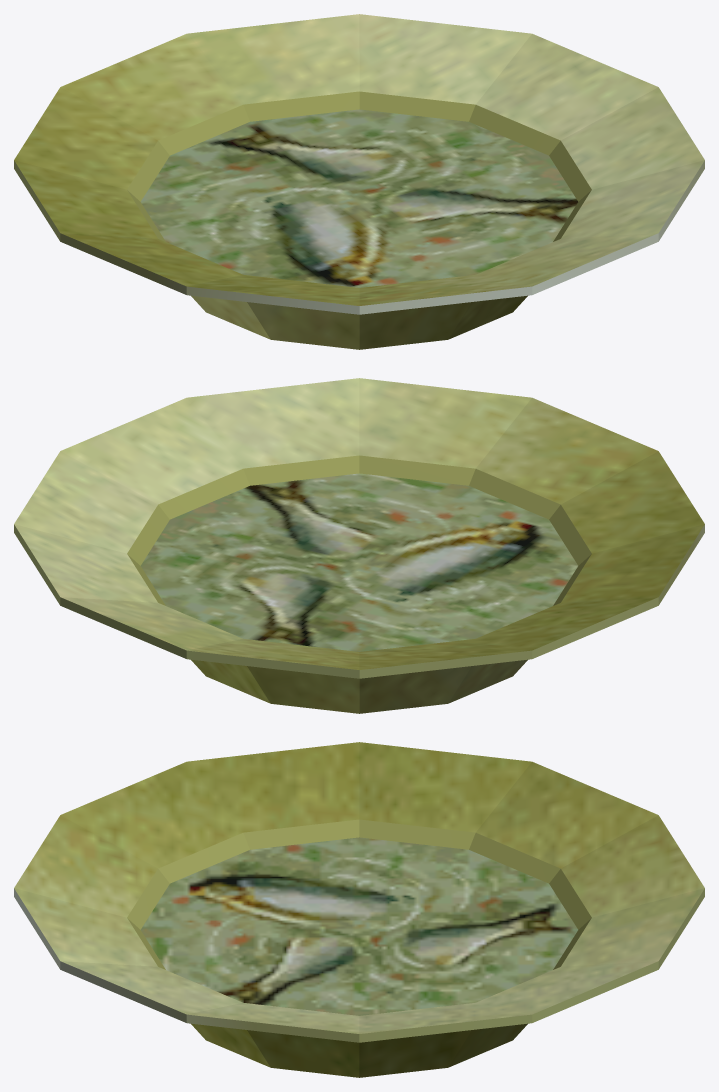
File: ITFO.glb
3 renders of one model, top to bottom at view 1: azimuth 30°, elevation 25°; view 2: azimuth 150°, elevation 25°; view 3: azimuth 270°, elevation 25°, orthographic.
Parts seen in each view (by area): view 1: zengin; view 2: zengin; view 3: zengin.
Boxes of the visible parts, x1,y1,x2,y2 form: zengin: (14,14,704,349); zengin: (14,378,704,713); zengin: (14,742,704,1077).
Size of the model in its own units: 0.342 by 0.0627 by 0.342.
Materials: 2 (1 with a texture image).
